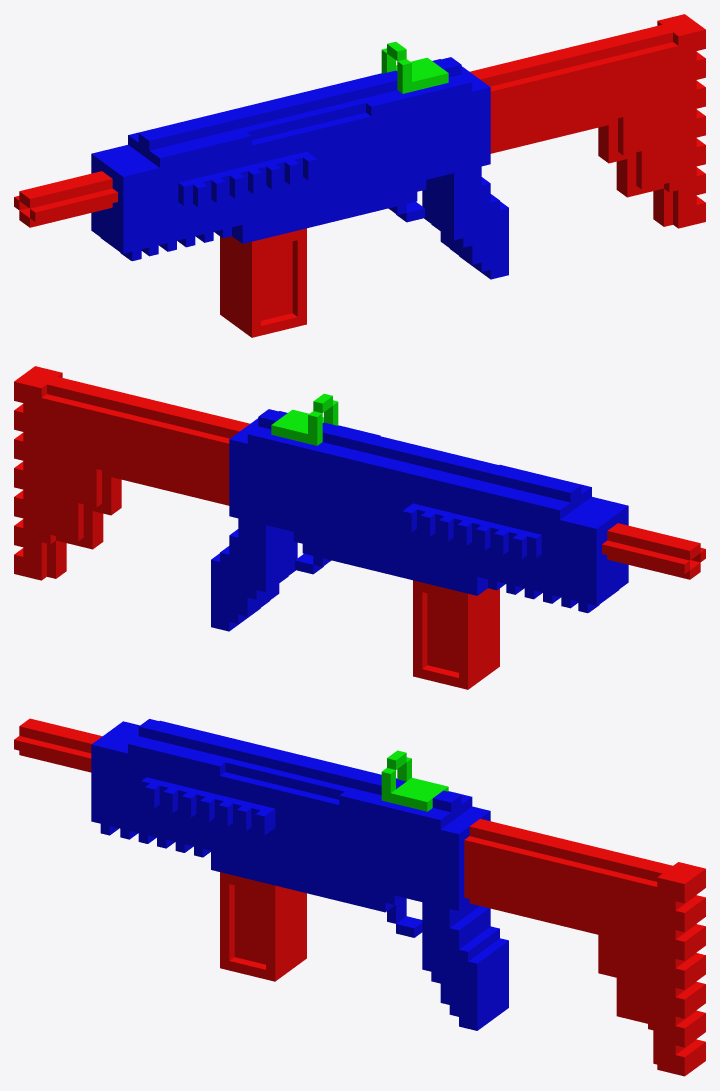
The picture shows the model from 3 angles, top to bottom: view 1: azimuth 30°, elevation 25°; view 2: azimuth 150°, elevation 25°; view 3: azimuth 330°, elevation 25°; orthographic projection.
Parts seen in each view (by area): view 1: ar1; view 2: ar1; view 3: ar1.
Boxes of the visible parts, x1=… form: ar1: x1=14, y1=14, x2=705, y2=337; ar1: x1=14, y1=366, x2=705, y2=689; ar1: x1=14, y1=718, x2=705, y2=1076.
Size of the model in its own units: 730 by 250 by 100.
Materials: 1 (1 with a texture image).
